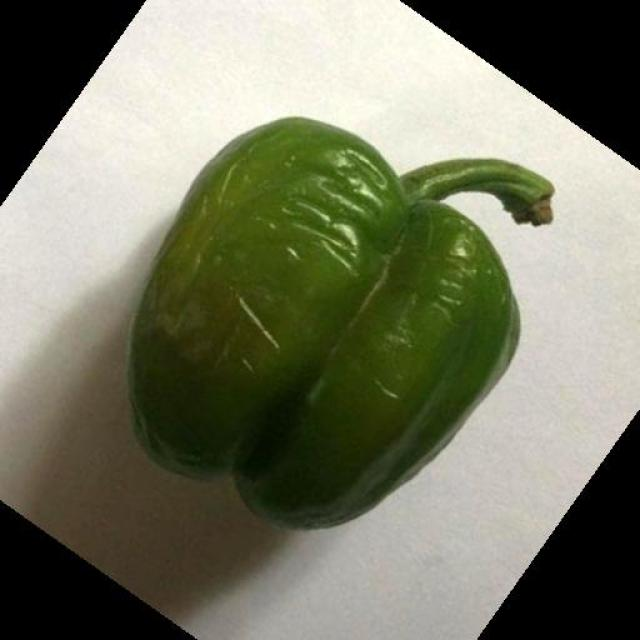Stale_Capsicum: (154, 111, 549, 518)
